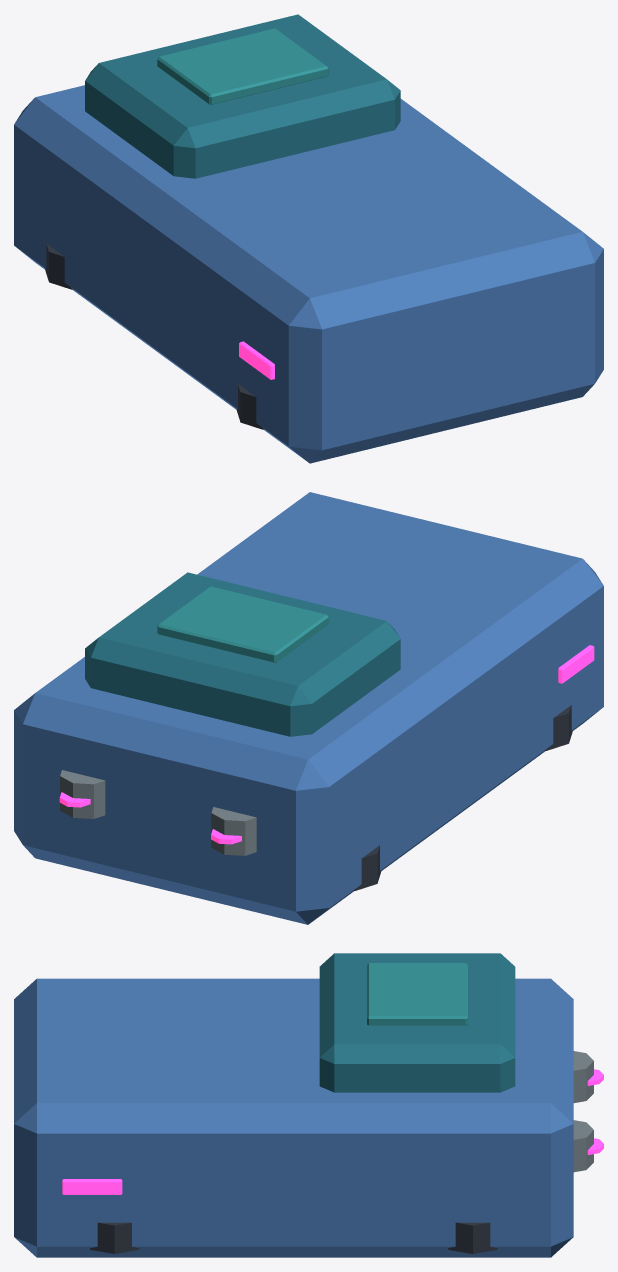
File: vehicles_001_seed11.glb
3 renders of one model, top to bottom at view 1: azimuth 30°, elevation 25°; view 2: azimuth 150°, elevation 25°; view 3: azimuth 270°, elevation 25°, orthographic. The views are drawn at different scales.
Parts seen in each view (by area): view 1: vehicles_001_seed11; view 2: vehicles_001_seed11; view 3: vehicles_001_seed11.
Boxes of the visible parts, x1,y1,x2,y2 form: vehicles_001_seed11: [14, 14, 603, 463]; vehicles_001_seed11: [14, 492, 603, 924]; vehicles_001_seed11: [14, 953, 603, 1257].
Bounding box in the file's own units: 2.48 × 1.59 × 4.12.
